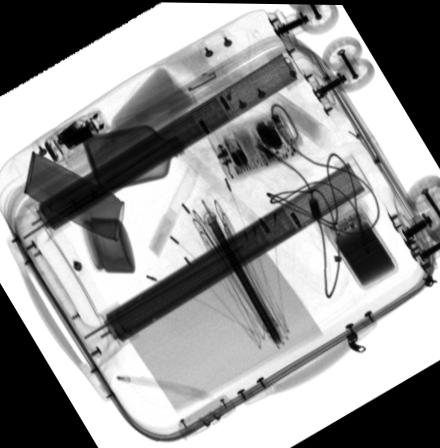Powerbank: (322, 205, 396, 288)
